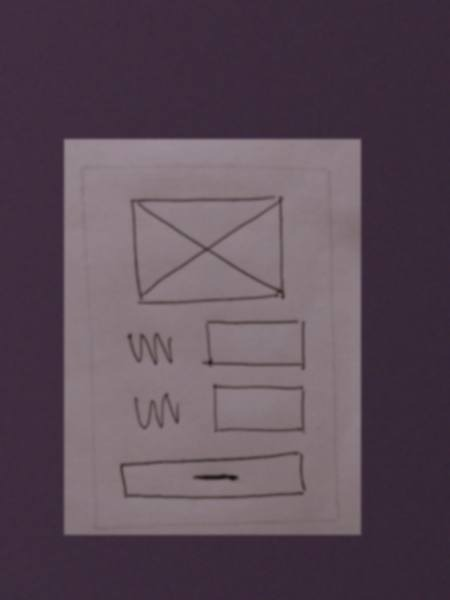button: (111, 448, 317, 505)
image: (118, 192, 295, 306)
text: (118, 325, 184, 372), (120, 391, 190, 433)
text_input: (198, 316, 314, 374), (203, 382, 315, 441)
